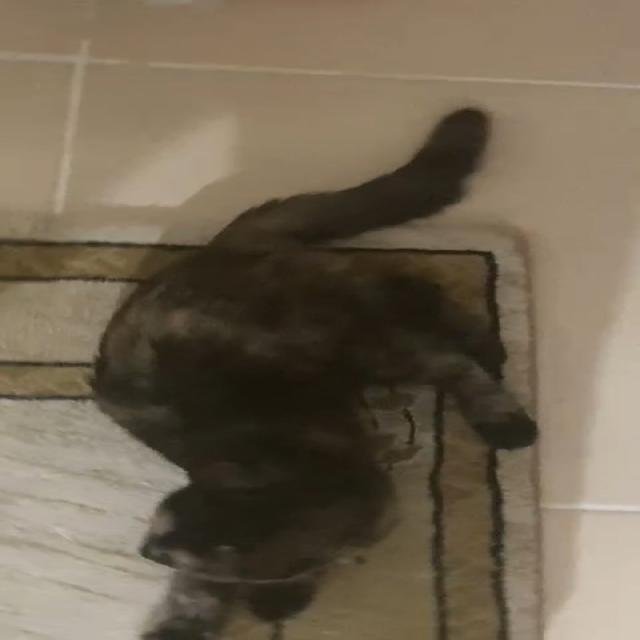authorized: (88, 105, 539, 638)
